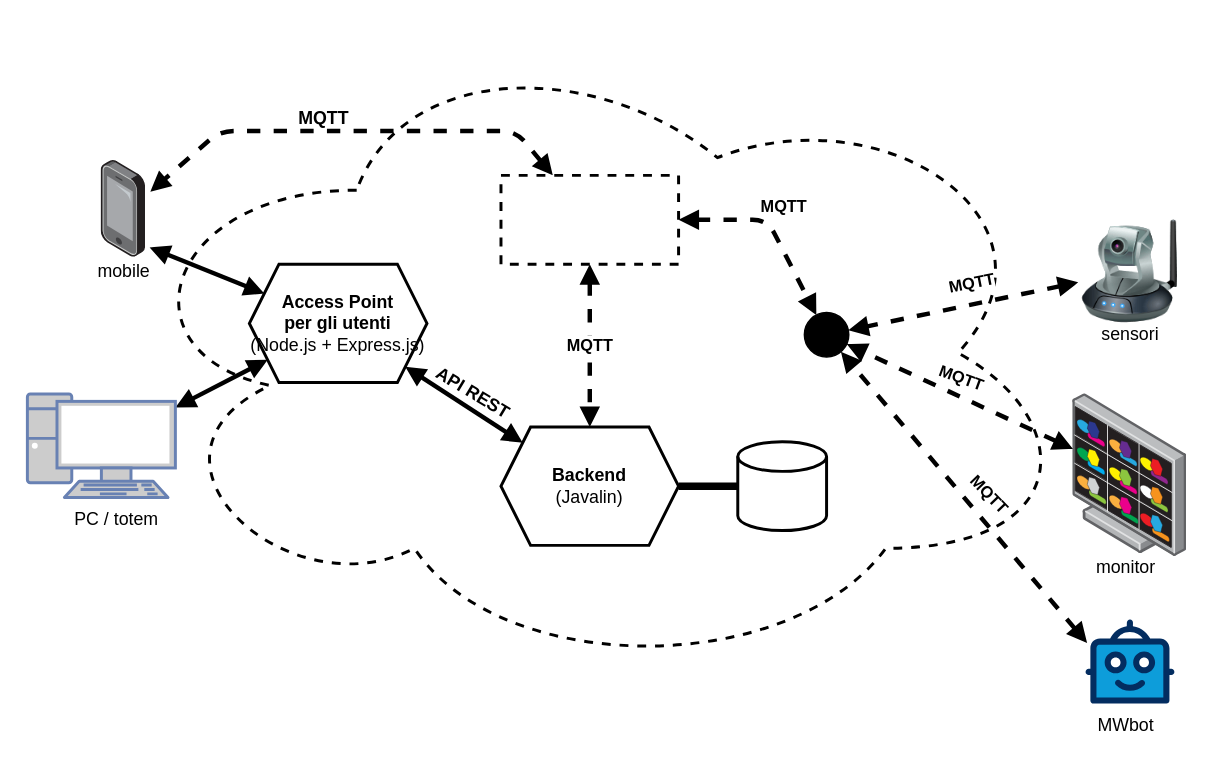
The diagram is 1212 pixels wide and 773 high, and some of its shapes have lost their labels. Here are the shapes that lost their labels. From the top down, the box of each, then its label:
(499, 173, 679, 265): MQTT broker (mosquitto)
(736, 440, 827, 531): DB (sqlite)
